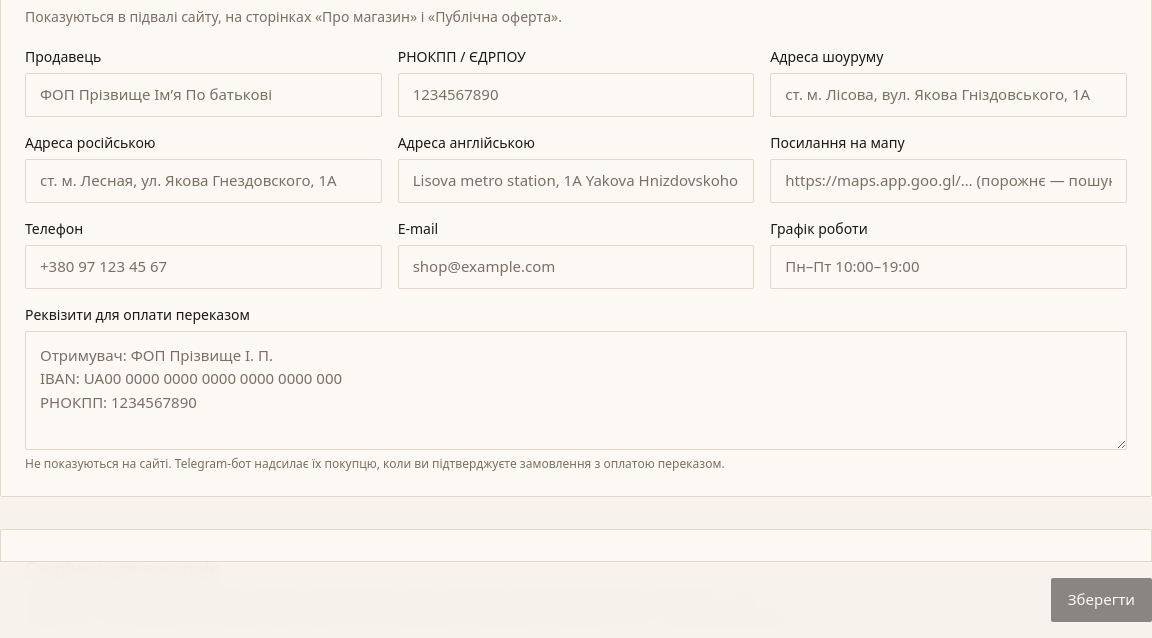
AdminStoreInfoEditor › saves everything and confirms
Step 1. Type "+380971234567" into the field labelled "Телефон" → (203, 267), box [25, 245, 382, 289]
(page scrolled)
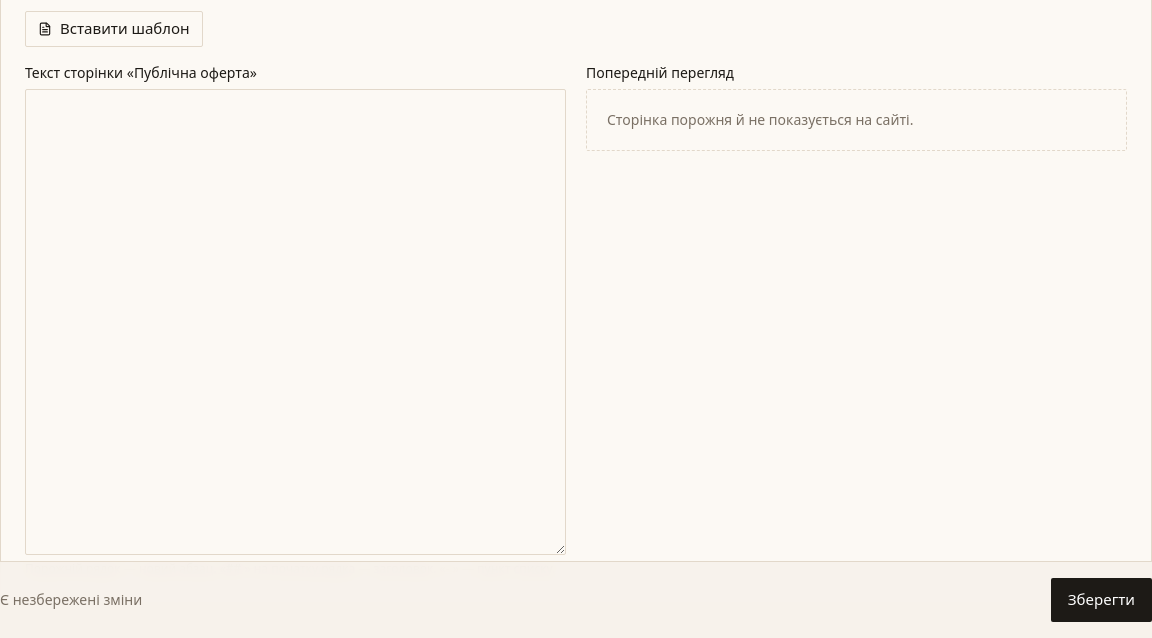
Step 2. Type "Текст оферти" into the text box labelled "Текст сторінки" → (296, 322), box [25, 89, 566, 555]
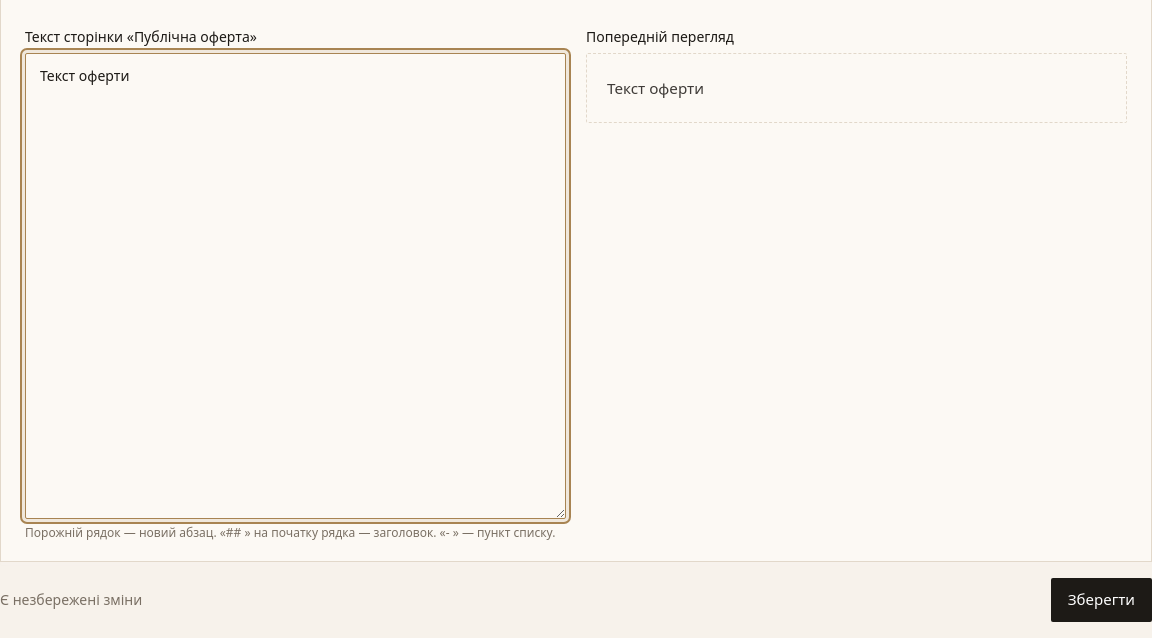
Step 3. Click the button "Зберегти" → (1101, 600), box [1051, 578, 1151, 622]
(page scrolled)
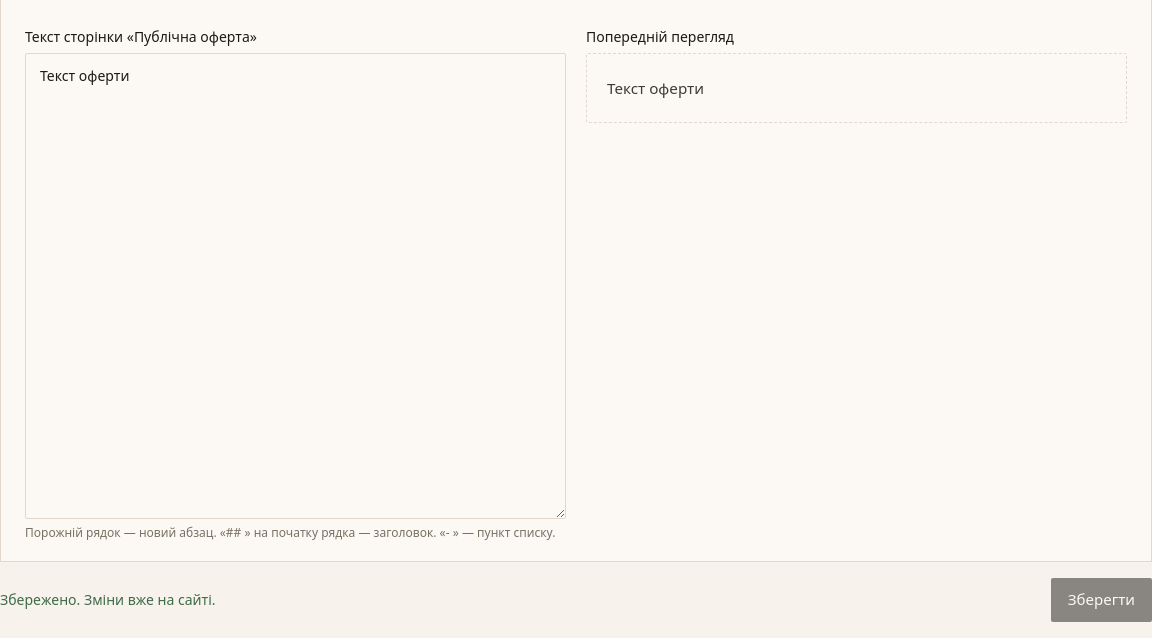
Result: the text "Збережено. Зміни вже на сайті." is shown at [0, 590, 216, 610]
Result: the button "Зберегти" is disabled at [1051, 578, 1151, 622]
